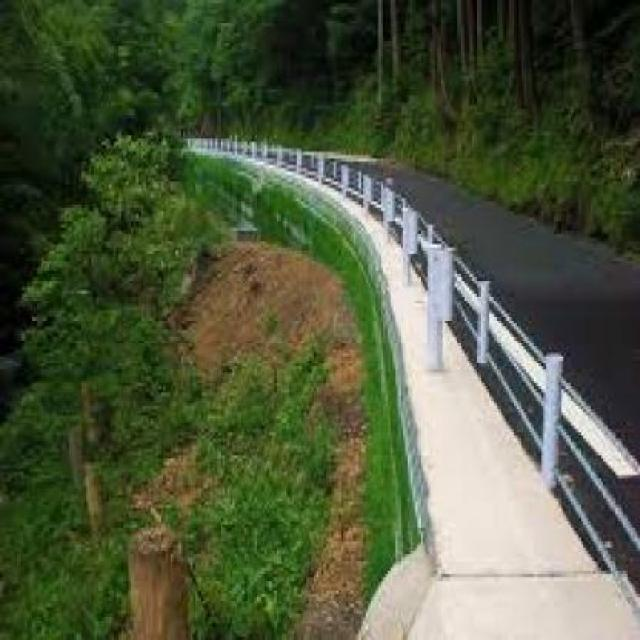Guard rail: (192, 130, 458, 378)
